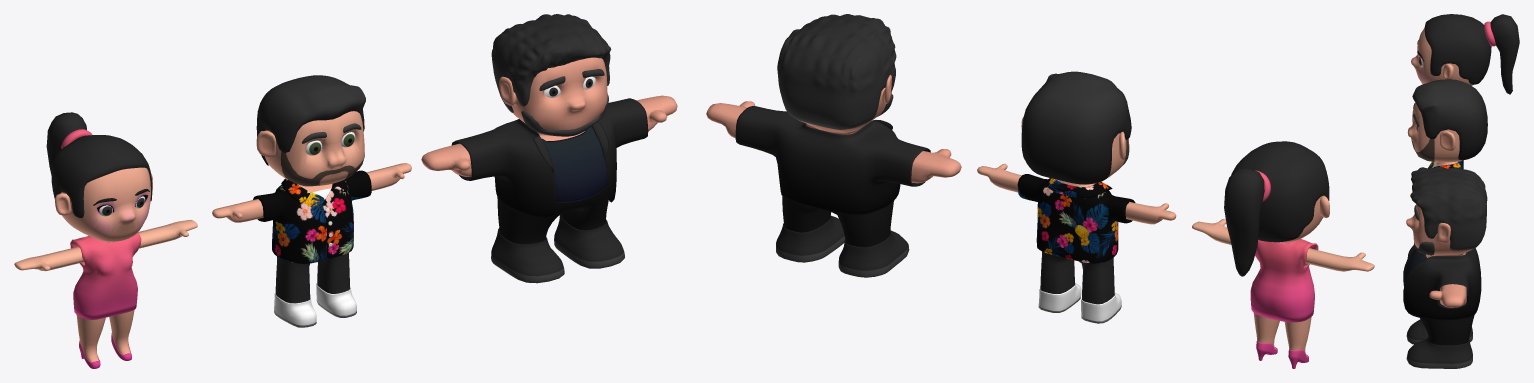
File: chefcito-personajes.glb
3 renders of one model, left to right at view 1: azimuth 30°, elevation 25°; view 2: azimuth 150°, elevation 25°; view 3: azimuth 270°, elevation 25°, orthographic. The views are drawn at different scales.
Parts seen in each view (by area): view 1: 2.CABEZA; view 2: 2.CABEZA; view 3: 2.CABEZA.
Boxes of the visible parts, x1,y1,x2,y2 form: 2.CABEZA: (14,14,677,368); 2.CABEZA: (706,14,1374,368); 2.CABEZA: (1403,14,1519,368).
Size of the model in its own units: 14.9 by 5 by 3.01.
Materials: 8 (7 with a texture image).
